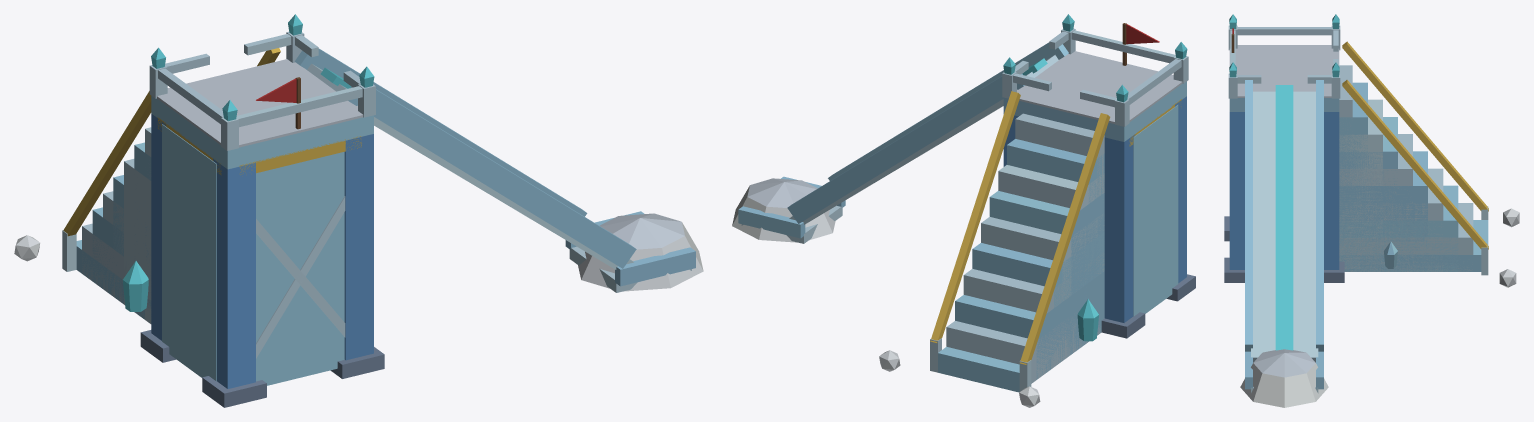
The model's file is Decor_IcePalace_Slide.fbx.
The picture shows the model from 3 angles, left to right: view 1: azimuth 30°, elevation 25°; view 2: azimuth 150°, elevation 25°; view 3: azimuth 270°, elevation 25°; orthographic projection. The views are drawn at different scales.
Visible parts, largest first — view 1: Slide_Body; view 2: Slide_Body; view 3: Slide_Body.
Part boxes in pixels (x1=…): Slide_Body: x1=14, y1=14, x2=703, y2=407; Slide_Body: x1=732, y1=14, x2=1195, y2=407; Slide_Body: x1=1224, y1=14, x2=1519, y2=407.
Bounding box in the file's own units: 21.6 × 12 × 14.6.
